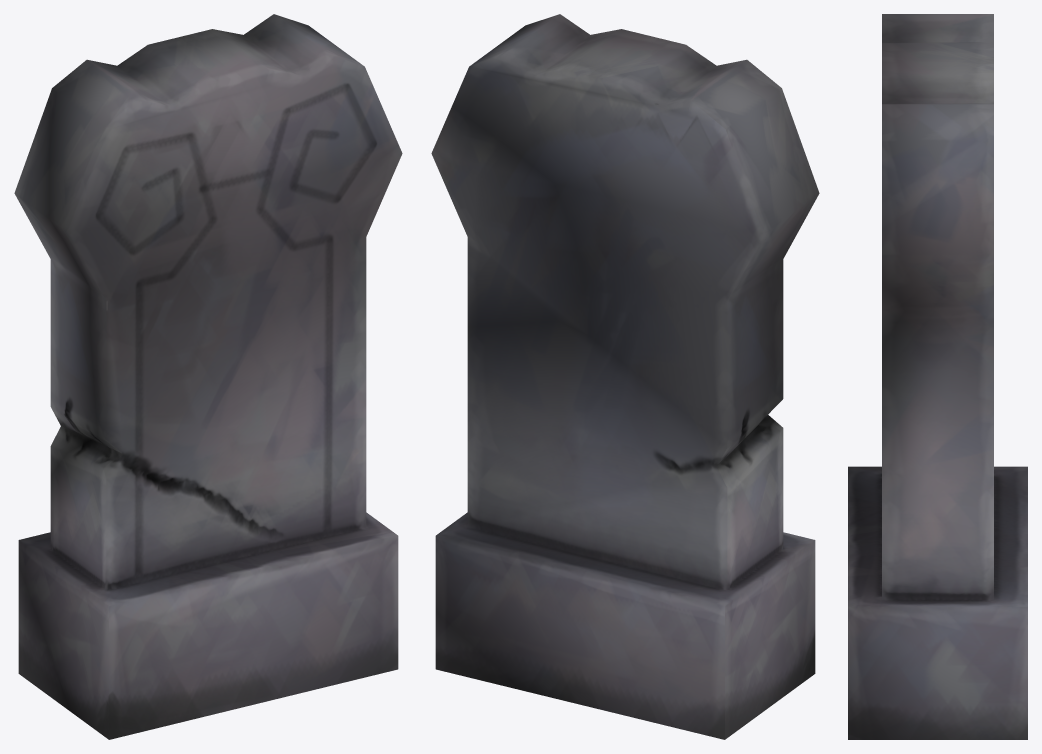
The model's file is miLapidaB.obj.
The picture shows the model from 3 angles, left to right: view 1: azimuth 30°, elevation 25°; view 2: azimuth 150°, elevation 25°; view 3: azimuth 270°, elevation 25°; orthographic projection.
Visible parts, largest first — view 1: Cube.006_Cube.007; view 2: Cube.006_Cube.007; view 3: Cube.006_Cube.007.
Part boxes in pixels (<box>): Cube.006_Cube.007: <box>14,14,402,739</box>; Cube.006_Cube.007: <box>431,14,819,739</box>; Cube.006_Cube.007: <box>848,14,1027,739</box>.
Bounding box in the file's own units: 1.02 × 1.81 × 0.4823.
